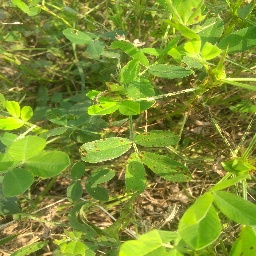GroundNut_Leaf: (179, 199, 224, 250), (143, 150, 193, 183), (78, 137, 132, 164), (7, 133, 50, 160), (2, 167, 36, 200), (219, 25, 255, 56), (1, 101, 34, 131), (135, 128, 182, 149), (86, 102, 141, 116), (150, 64, 195, 81), (60, 27, 93, 44), (45, 106, 70, 128), (65, 179, 83, 204), (85, 183, 109, 201)
